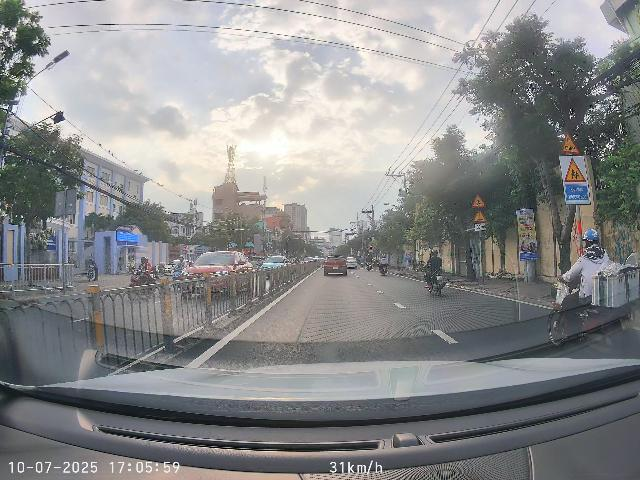221-duong-go-ghe: (473, 211, 487, 222)
224-duong-nguoi-di-bo-cat-ngang: (472, 193, 486, 207)
225-chu-y-tre-em: (564, 157, 587, 183)
245-di-cham: (562, 131, 580, 154)
